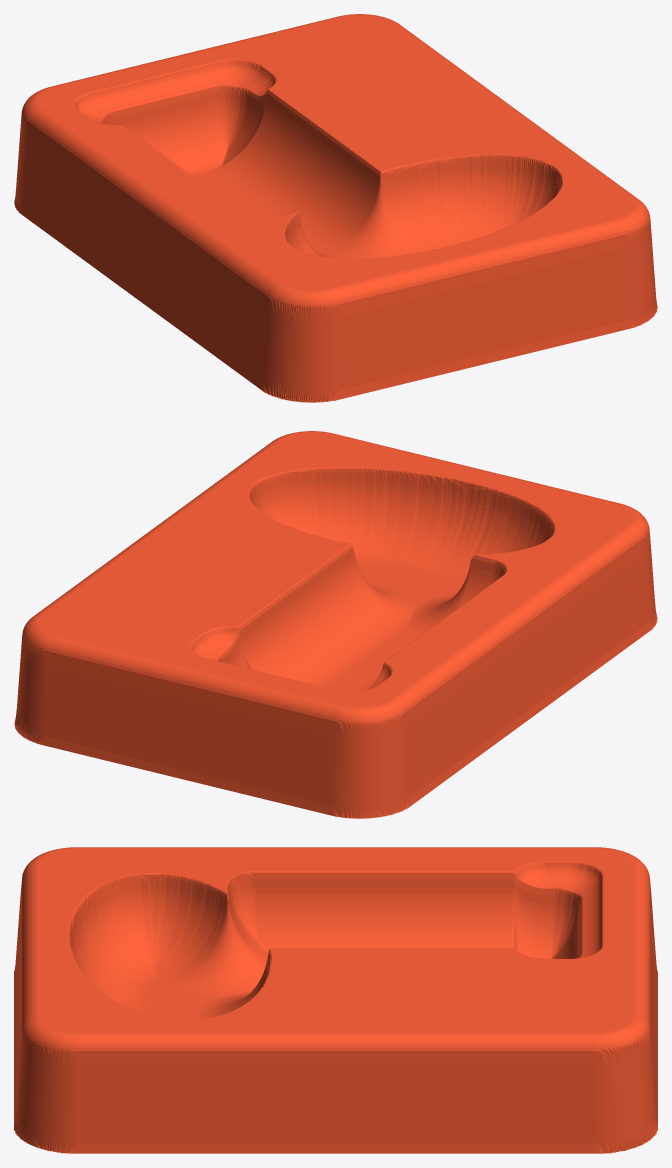
File: mold.glb
3 renders of one model, top to bottom at view 1: azimuth 30°, elevation 25°; view 2: azimuth 150°, elevation 25°; view 3: azimuth 270°, elevation 25°, orthographic. The views are drawn at different scales.
Parts seen in each view (by area): view 1: geometry_0; view 2: geometry_0; view 3: geometry_0.
Boxes of the visible parts, x1=… form: geometry_0: x1=14, y1=14, x2=657, y2=402; geometry_0: x1=14, y1=431, x2=657, y2=818; geometry_0: x1=14, y1=847, x2=657, y2=1153.
Size of the model in its own units: 0.0696 by 0.0175 by 0.0924.
